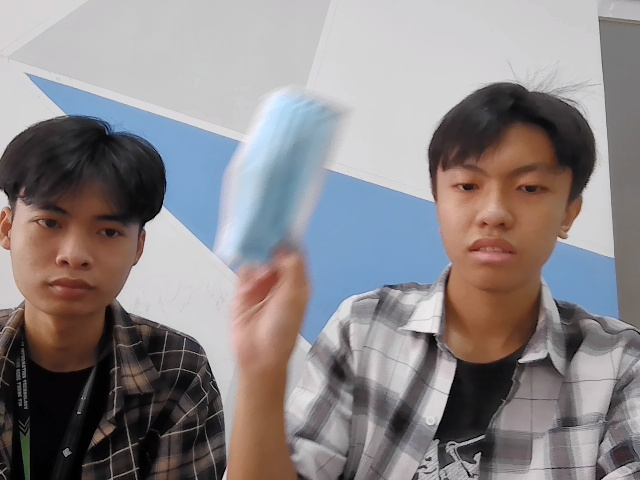human: (429, 77, 595, 297), (1, 111, 165, 316)
mask: (220, 81, 340, 275)
